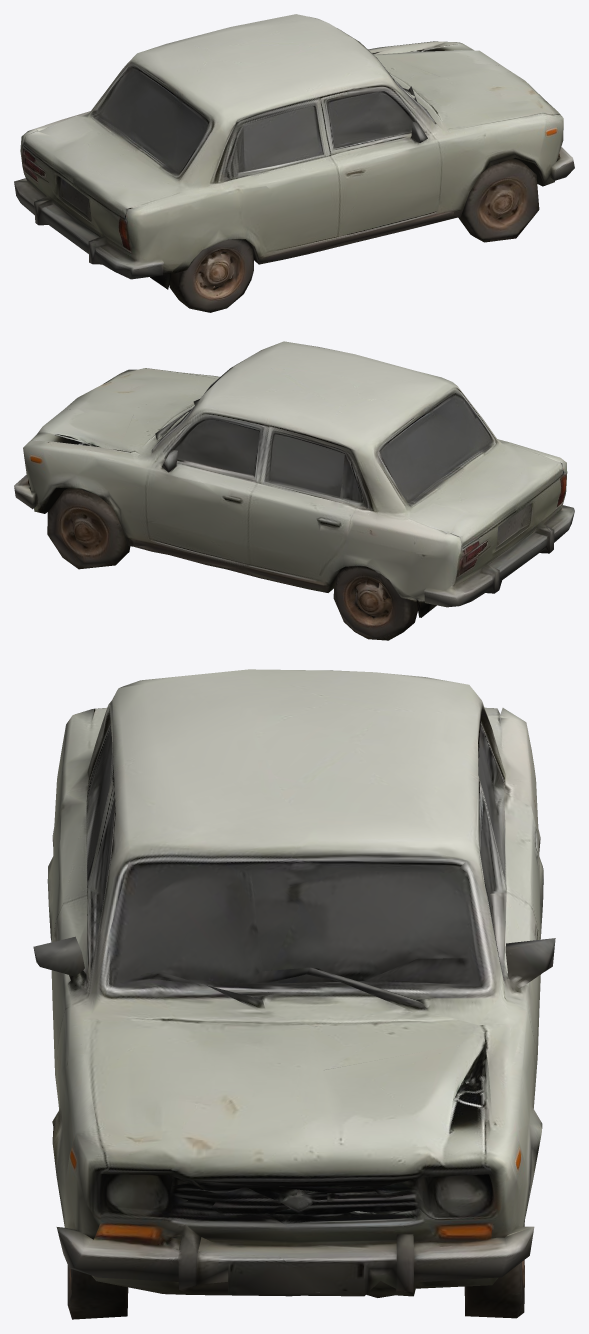
File: e_vaz_crashed.glb
3 views of the same model, one above another, from view 1: azimuth 30°, elevation 25°; view 2: azimuth 150°, elevation 25°; view 3: azimuth 270°, elevation 25° (orthographic). The views are drawn at different scales.
Visible parts, largest first — view 1: tripo_node_67158daf-d94d-42fb-ba8a-a4a06d730e77; view 2: tripo_node_67158daf-d94d-42fb-ba8a-a4a06d730e77; view 3: tripo_node_67158daf-d94d-42fb-ba8a-a4a06d730e77.
Part boxes in pixels (<box>): tripo_node_67158daf-d94d-42fb-ba8a-a4a06d730e77: <box>14,14,574,312</box>; tripo_node_67158daf-d94d-42fb-ba8a-a4a06d730e77: <box>14,341,574,640</box>; tripo_node_67158daf-d94d-42fb-ba8a-a4a06d730e77: <box>33,669,555,1319</box>.
Size of the model in its own units: 1 by 0.3959 by 0.4865.
1 material, 1 textured.
